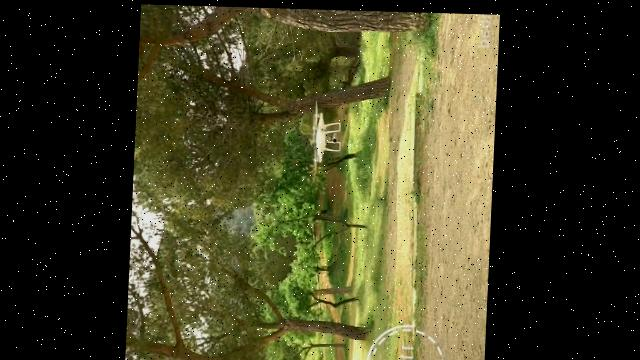drone: (307, 98, 344, 173)
